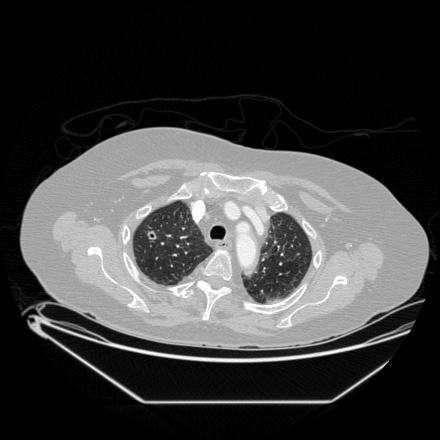nodule: (147, 231, 155, 239)
